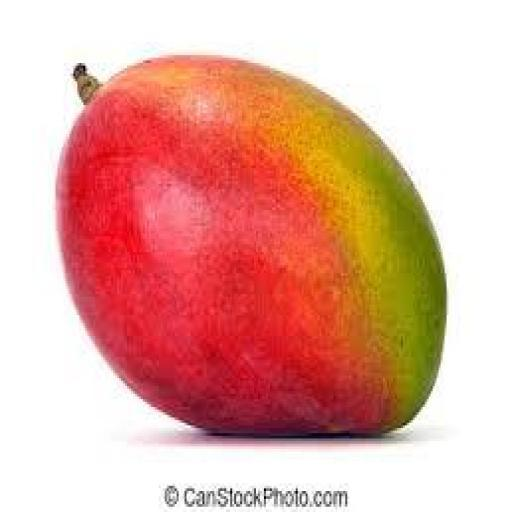mango: (56, 56, 446, 441)
